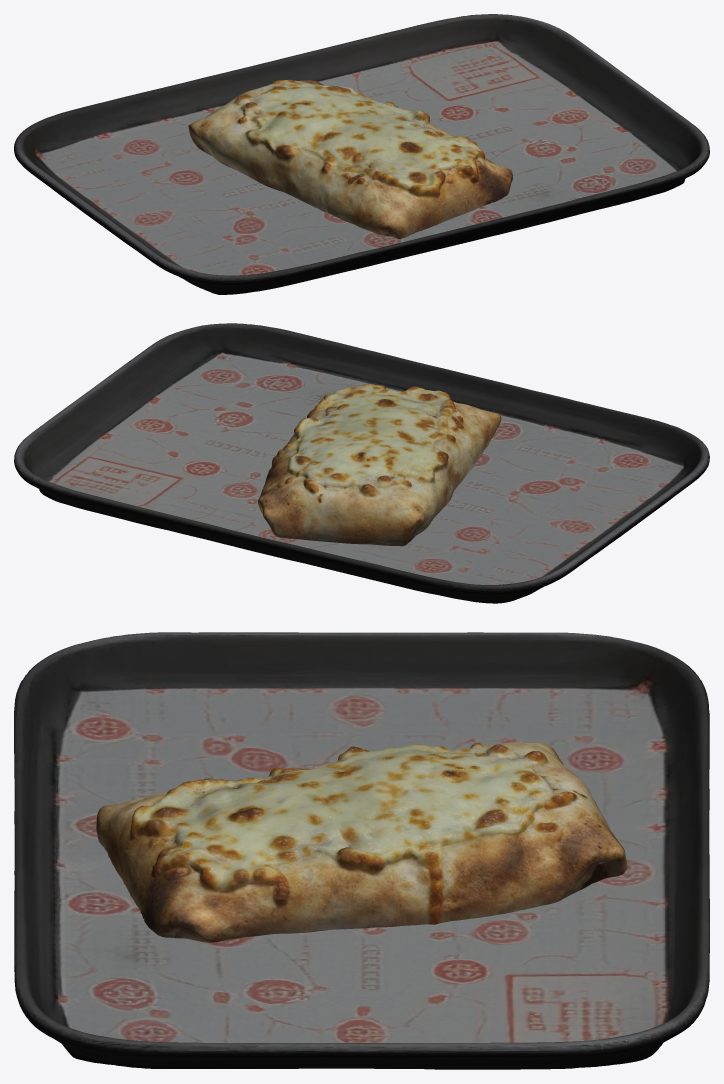
Rendered from French.marsey.glb.
3 renders of one model, top to bottom at view 1: azimuth 30°, elevation 25°; view 2: azimuth 150°, elevation 25°; view 3: azimuth 270°, elevation 25°, orthographic. The views are drawn at different scales.
Visible parts, largest first — view 1: /Root/Scenes/Scene/Object_37/Object_38/Object_39/Submesh_0, /Root/Scenes/Scene/Object_37/Object_40/Submesh_0; view 2: /Root/Scenes/Scene/Object_37/Object_38/Object_39/Submesh_0, /Root/Scenes/Scene/Object_37/Object_40/Submesh_0; view 3: /Root/Scenes/Scene/Object_37/Object_38/Object_39/Submesh_0, /Root/Scenes/Scene/Object_37/Object_40/Submesh_0.
Boxes of the visible parts, x1,y1,x2,y2 form: /Root/Scenes/Scene/Object_37/Object_38/Object_39/Submesh_0: (14, 14, 709, 294); /Root/Scenes/Scene/Object_37/Object_40/Submesh_0: (188, 79, 512, 238); /Root/Scenes/Scene/Object_37/Object_38/Object_39/Submesh_0: (14, 323, 709, 603); /Root/Scenes/Scene/Object_37/Object_40/Submesh_0: (258, 384, 501, 546); /Root/Scenes/Scene/Object_37/Object_38/Object_39/Submesh_0: (14, 632, 709, 1069); /Root/Scenes/Scene/Object_37/Object_40/Submesh_0: (96, 742, 627, 942).
Size of the model in its own units: 0.4005 by 0.0477 by 0.2831.
Materials: 2 (2 with a texture image).
